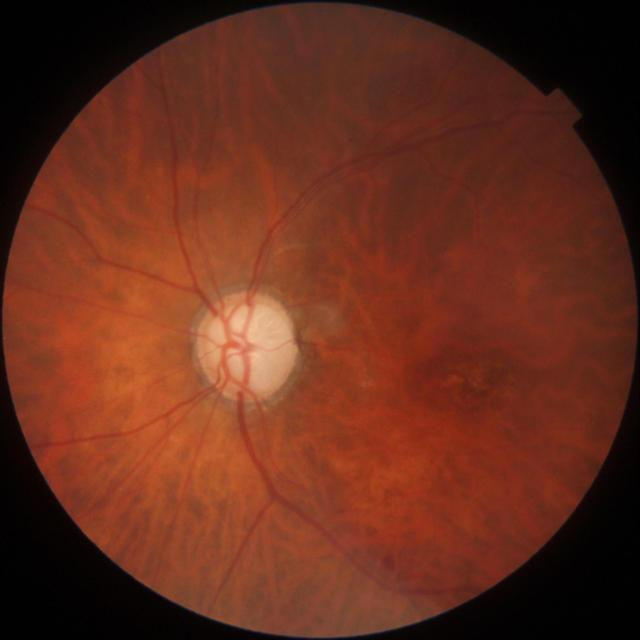OC: (209, 302, 286, 382)
OD: (197, 292, 296, 400)
